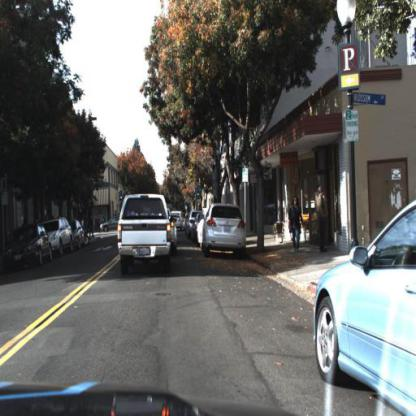car: (313, 199, 416, 416), (312, 202, 416, 396), (116, 192, 174, 273), (3, 218, 54, 273), (203, 205, 247, 254), (51, 218, 74, 254), (68, 218, 88, 245), (74, 220, 86, 252), (99, 215, 118, 235), (174, 208, 187, 236), (174, 211, 186, 233)
pedestrian: (290, 194, 304, 259), (317, 185, 330, 255), (317, 183, 328, 256), (289, 196, 303, 253)
